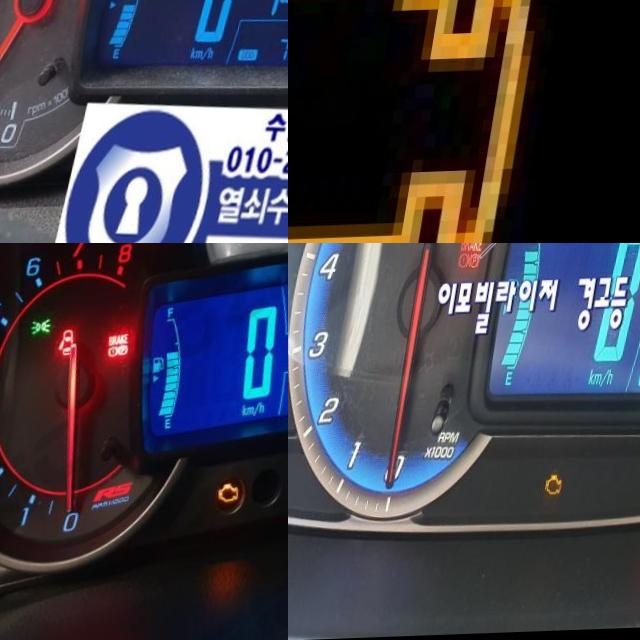Doors: (64, 329, 87, 357)
SideLamp: (36, 317, 62, 339)
